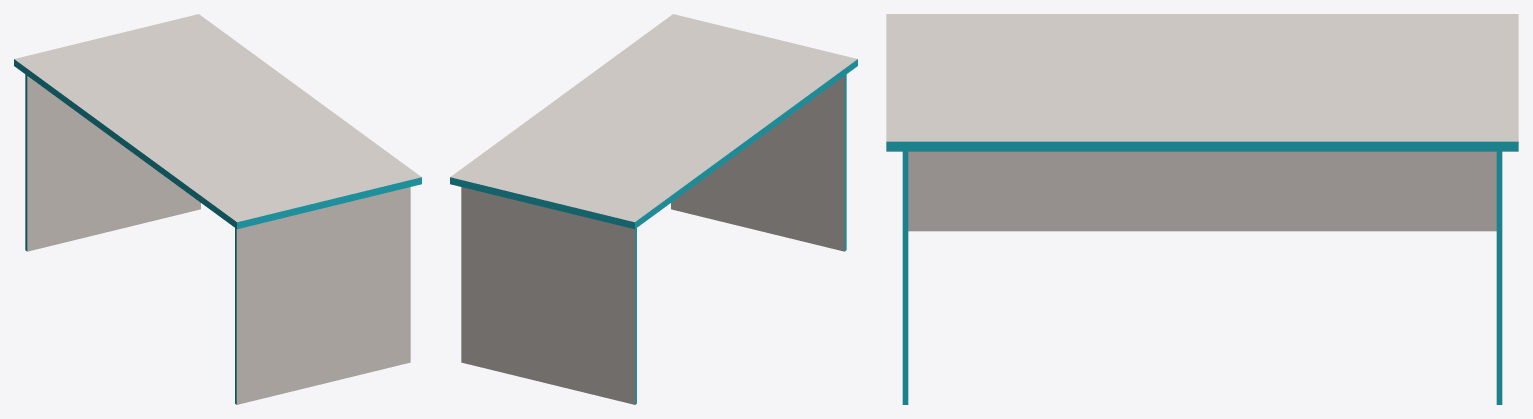
The model's file is Table Short Front.fbx.
The picture shows the model from 3 angles, left to right: view 1: azimuth 30°, elevation 25°; view 2: azimuth 150°, elevation 25°; view 3: azimuth 270°, elevation 25°; orthographic projection. The views are drawn at different scales.
Parts seen in each view (by area): view 1: Top, Leg, SecondLeg; view 2: Top, SecondLeg, Leg; view 3: Top, Front, Leg, SecondLeg.
Boxes of the visible parts, x1,y1,x2,y2 form: Top: (14,14,421,229); Leg: (235,187,410,404); SecondLeg: (25,74,200,251); Top: (450,14,857,229); SecondLeg: (461,187,636,404); Leg: (671,74,846,251); Top: (886,14,1518,151); Front: (908,151,1496,231); Leg: (902,151,908,404); SecondLeg: (1496,151,1502,404).
Bounding box in the file's own units: 110 × 107 × 230.
